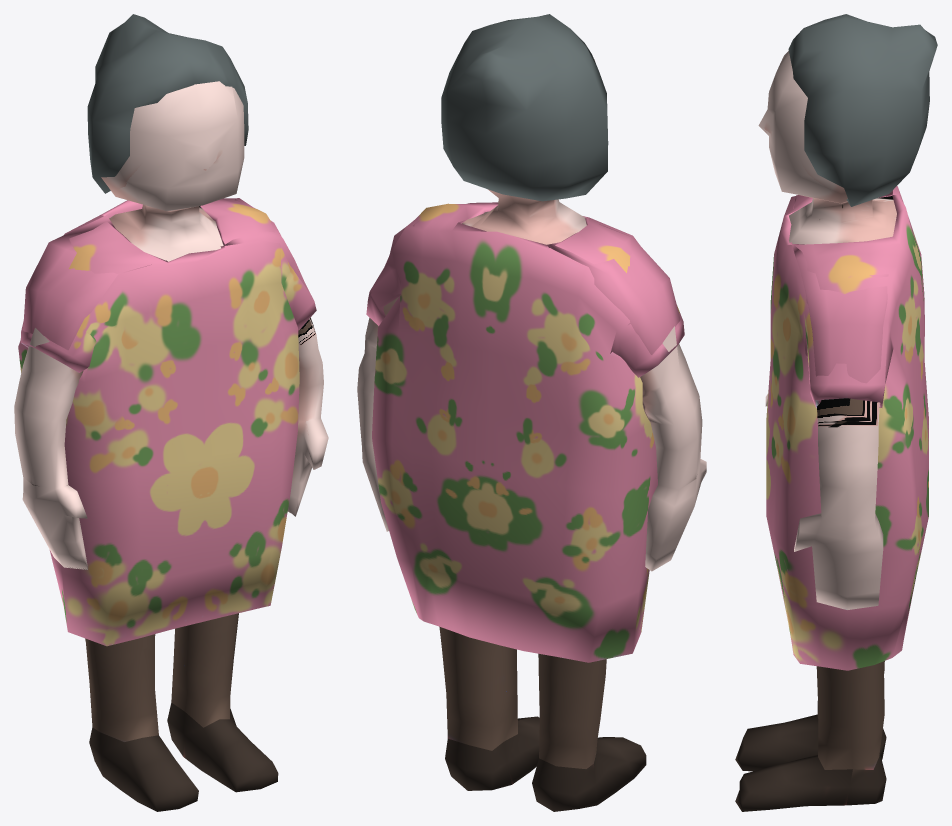
Rendered from 24npcgrandma2yesrig.fbx.
3 views of the same model, side by side, from view 1: azimuth 30°, elevation 25°; view 2: azimuth 150°, elevation 25°; view 3: azimuth 270°, elevation 25° (orthographic). The views are drawn at different scales.
Visible parts, largest first — view 1: Cube.002, Cube, Cube.004; view 2: Cube.002, Cube, Cube.004; view 3: Cube.002, Cube, Cube.004.
Boxes of the visible parts, x1,y1,x2,y2 form: Cube.002: (18, 198, 316, 646); Cube: (14, 81, 328, 811); Cube.004: (87, 14, 248, 193); Cube.002: (366, 202, 684, 662); Cube: (357, 59, 706, 811); Cube.004: (441, 14, 608, 201); Cube.002: (766, 186, 928, 670); Cube: (735, 51, 896, 811); Cube.004: (788, 14, 937, 206).
Size of the model in its own units: 207 by 475 by 114.
